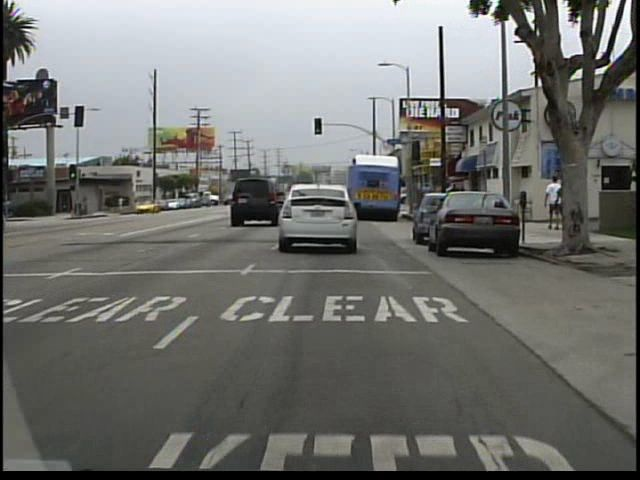person: (540, 172, 560, 235), (552, 177, 569, 233), (418, 180, 437, 220), (118, 195, 128, 212)
